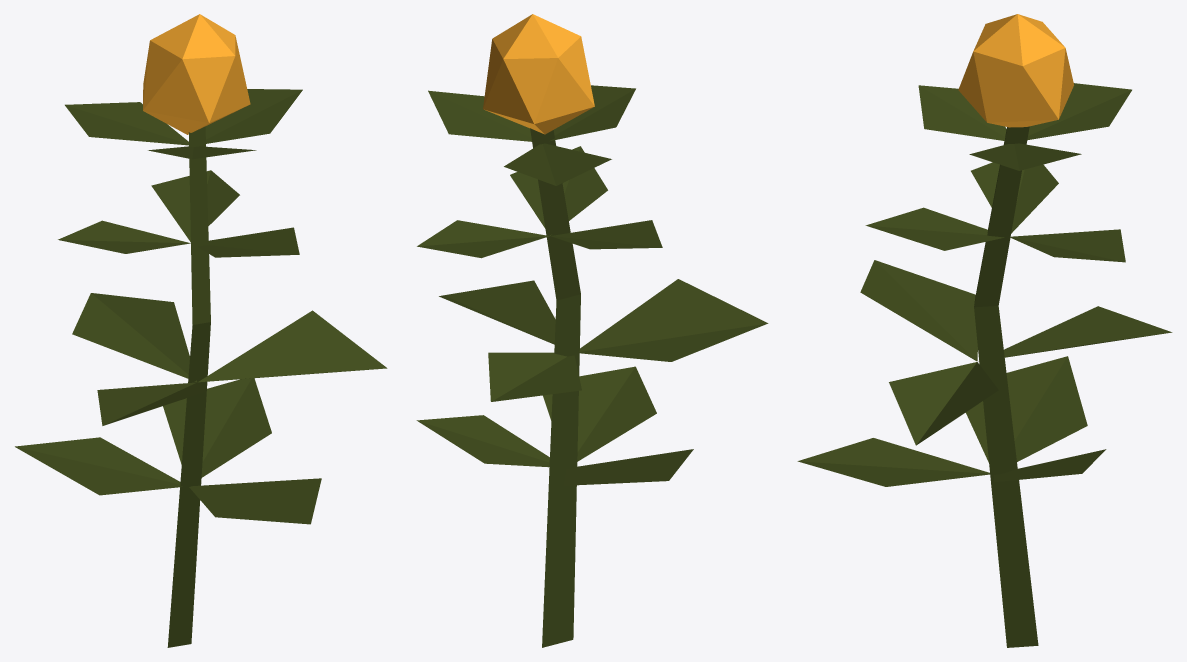
Rendered from SM_Flower_Clover_Tall_Single.fbx.
3 renders of one model, left to right at view 1: azimuth 30°, elevation 25°; view 2: azimuth 150°, elevation 25°; view 3: azimuth 270°, elevation 25°, orthographic. The views are drawn at different scales.
Visible parts, largest first — view 1: flower-clover-tall-single; view 2: flower-clover-tall-single; view 3: flower-clover-tall-single.
Boxes of the visible parts, <box> form: flower-clover-tall-single: <box>15,14,387,647</box>; flower-clover-tall-single: <box>416,14,768,647</box>; flower-clover-tall-single: <box>797,14,1172,647</box>.
Bounding box in the file's own units: 0.189 × 0.3686 × 0.1956.
